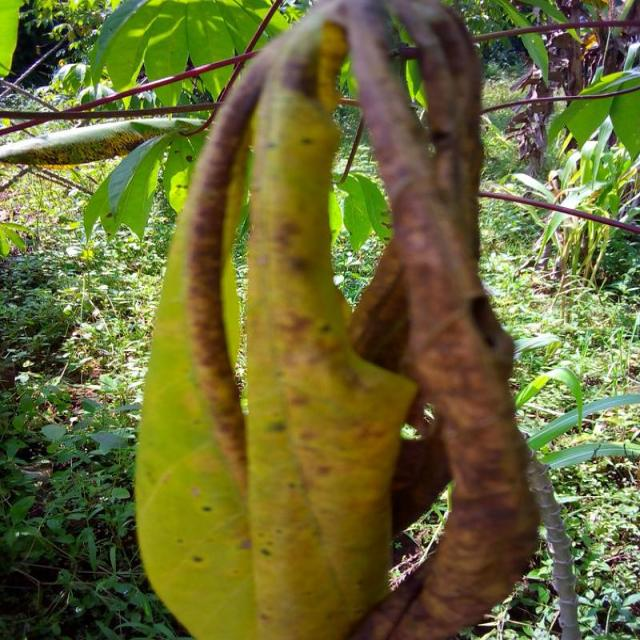cassava leaf: (132, 0, 422, 638)
